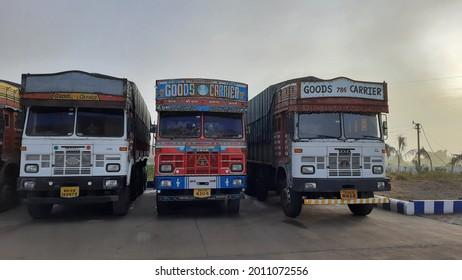truck: (248, 74, 392, 218), (14, 70, 152, 219), (150, 78, 250, 213)
